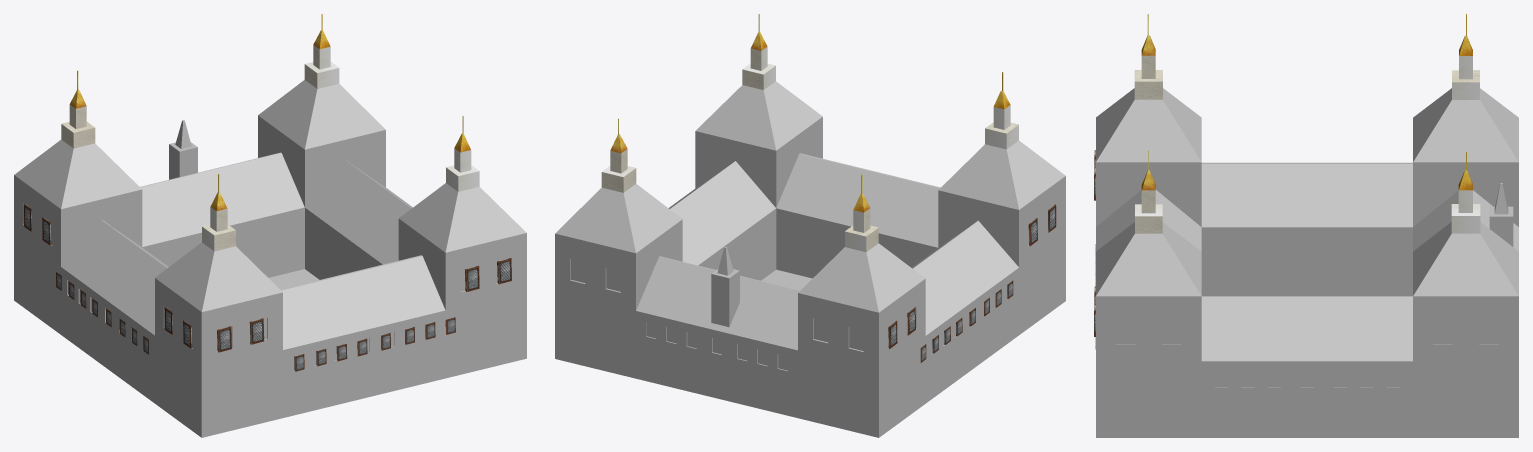
Rendered from castle.FBX.
3 renders of one model, left to right at view 1: azimuth 30°, elevation 25°; view 2: azimuth 150°, elevation 25°; view 3: azimuth 270°, elevation 25°, orthographic. The views are drawn at different scales.
Visible parts, largest first — view 1: Church, Object004, Object001, Object002, Object003; view 2: Church, Object004, Object001, Object002, Object003; view 3: Church, Object004, Object001, Object002, Object003.
Part boxes in pixels (x1,y1,x2,y2): Church: (14,115,526,437); Object004: (61,153,445,349); Object001: (14,80,526,311); Object002: (61,45,479,251); Object003: (70,14,470,210); Church: (555,117,1065,437); Object004: (636,154,1018,350); Object001: (555,81,1065,312); Object002: (601,46,1018,252); Object003: (610,14,1010,212); Church: (1096,162,1518,437); Object004: (1096,163,1518,361); Object001: (1096,88,1518,296); Object002: (1134,55,1480,233); Object003: (1141,14,1472,190).
Bounding box in the file's own units: 1503 × 1045 × 1506.
